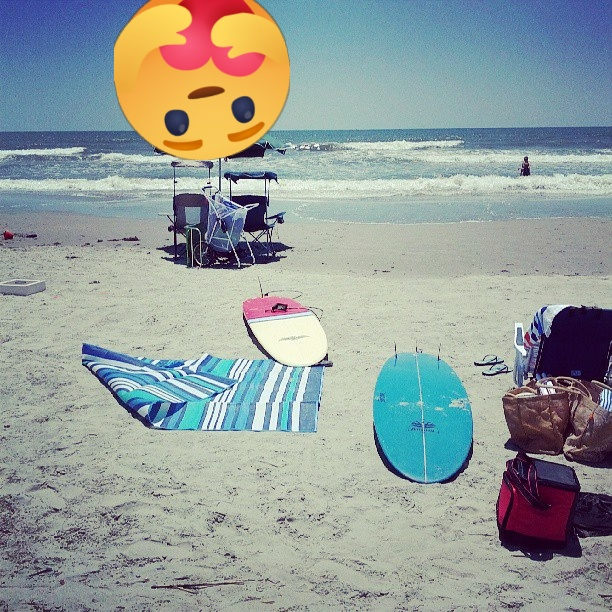care: (114, 0, 290, 160)
